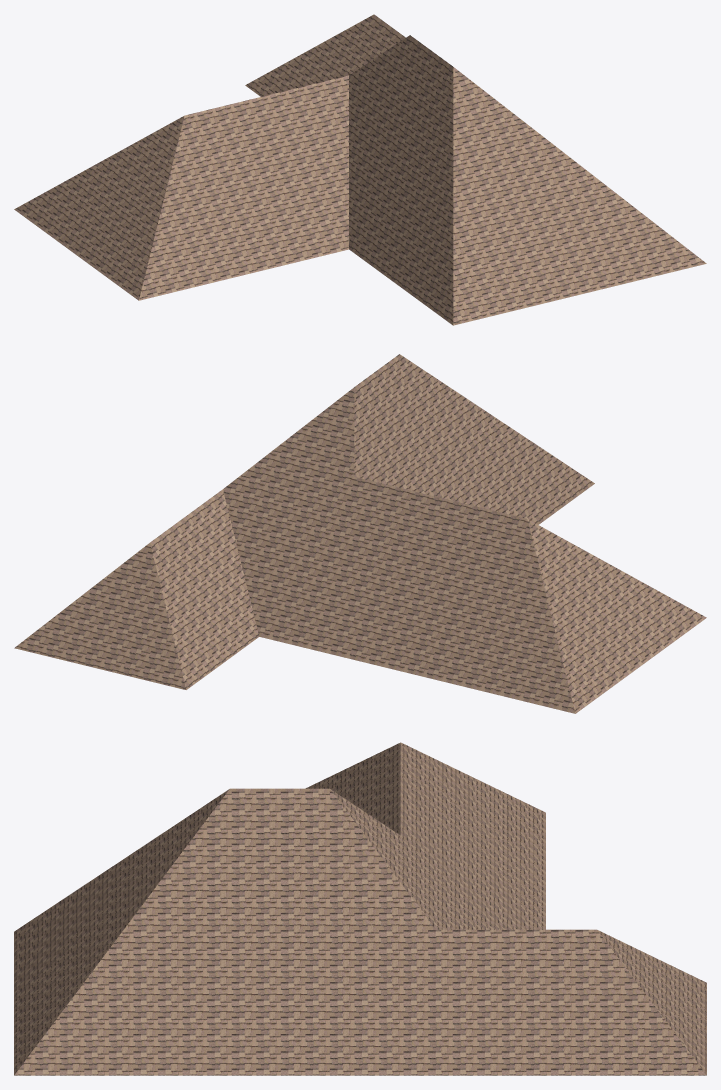
Rendered from telhado45a.dae.
3 renders of one model, top to bottom at view 1: azimuth 30°, elevation 25°; view 2: azimuth 150°, elevation 25°; view 3: azimuth 270°, elevation 25°, orthographic. The views are drawn at different scales.
Visible parts, largest first — view 1: SketchUp; view 2: SketchUp; view 3: SketchUp.
Part boxes in pixels (left/top/right/bottom): SketchUp: left=14, top=14, right=706, bottom=325; SketchUp: left=14, top=354, right=706, bottom=713; SketchUp: left=14, top=742, right=706, bottom=1075.
Size of the model in its own units: 608 by 677 by 211.
Materials: 2 (1 with a texture image).
